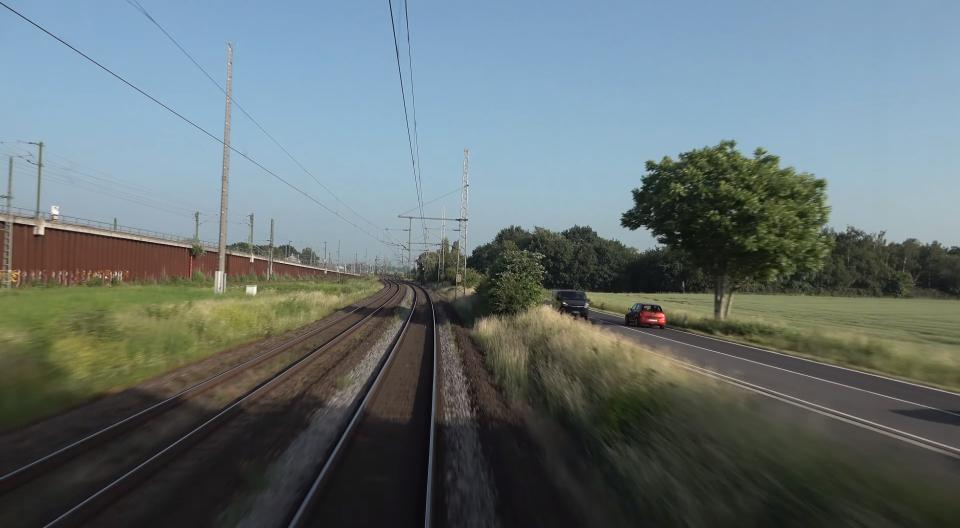Plant: (336, 376, 356, 392), (387, 308, 402, 324)
